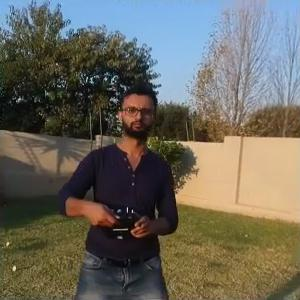follow: (49, 74, 178, 298)
